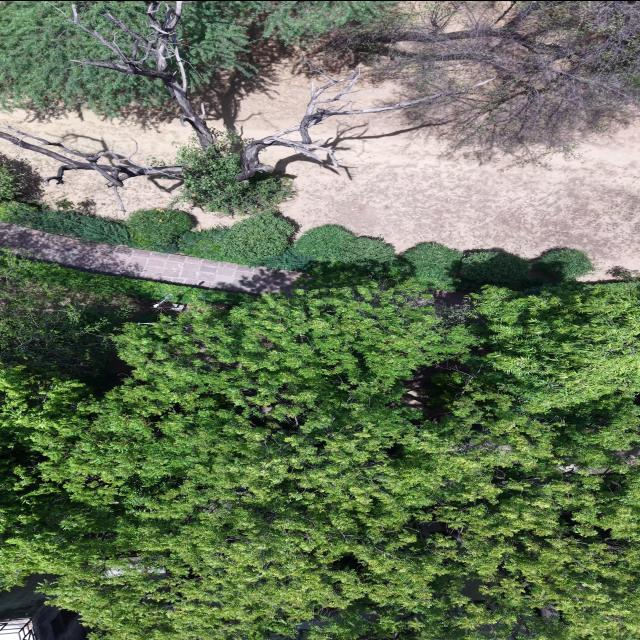DRY_AREA: (261, 111, 639, 280), (0, 223, 299, 294)
VEGETATION_TREE: (0, 214, 639, 639), (2, 281, 638, 639), (0, 1, 637, 215), (0, 1, 639, 213), (2, 1, 435, 270), (172, 1, 638, 157), (0, 202, 592, 290), (328, 1, 639, 164), (0, 251, 253, 389), (237, 60, 430, 181), (60, 1, 214, 147), (57, 3, 213, 146), (477, 283, 639, 412), (0, 202, 298, 268), (0, 253, 147, 382), (0, 1, 164, 115), (0, 1, 163, 115), (0, 125, 182, 212), (310, 243, 592, 291), (4, 254, 253, 304), (176, 131, 294, 215), (392, 243, 593, 291), (178, 214, 311, 270), (432, 249, 592, 291), (0, 202, 133, 246), (264, 1, 395, 42), (220, 214, 295, 266), (294, 225, 396, 263), (298, 261, 412, 289), (127, 209, 195, 252), (403, 243, 463, 289), (460, 252, 531, 288), (159, 226, 229, 260), (535, 248, 593, 281), (261, 248, 317, 271), (0, 165, 20, 201)
